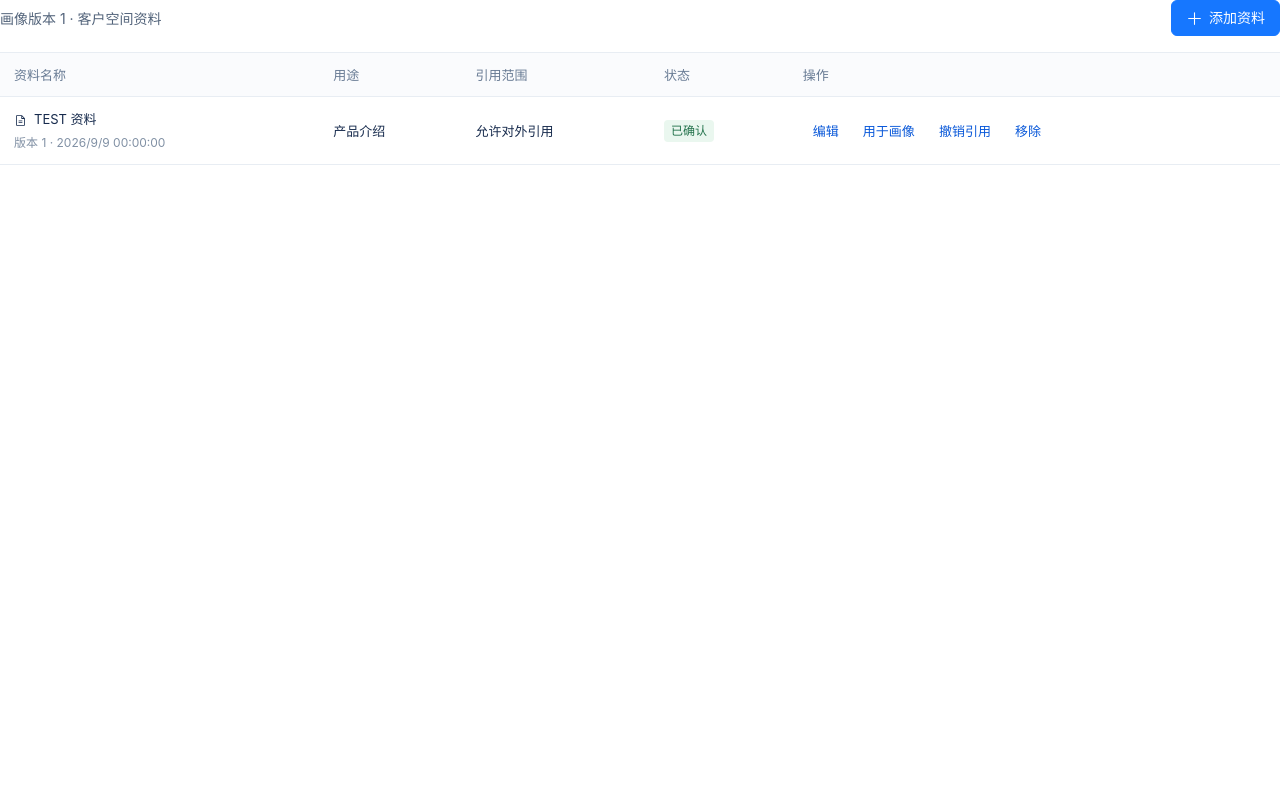
Test: P04 客户空间资料生命周期 › 同用户切换空间立即关闭旧的已确认移除影响弹窗
The width and height of the screenshot is (1280, 800).
Click the button "移除" at (1028, 130), box x1=1005 y1=112 x2=1051 y2=148
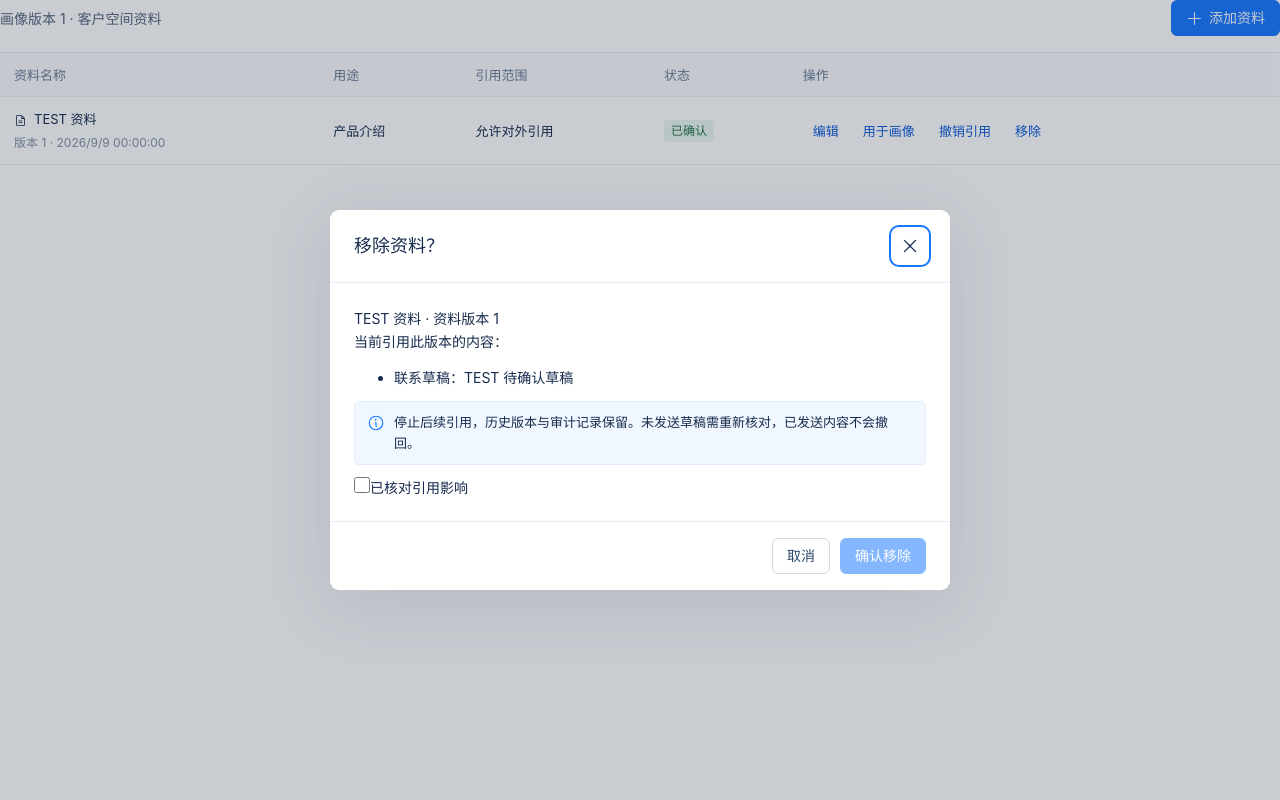
Now the checkbox labelled "已核对引用影响" is shown
Click the checkbox labelled "已核对引用影响" at (362, 485), box x1=354 y1=477 x2=370 y2=493
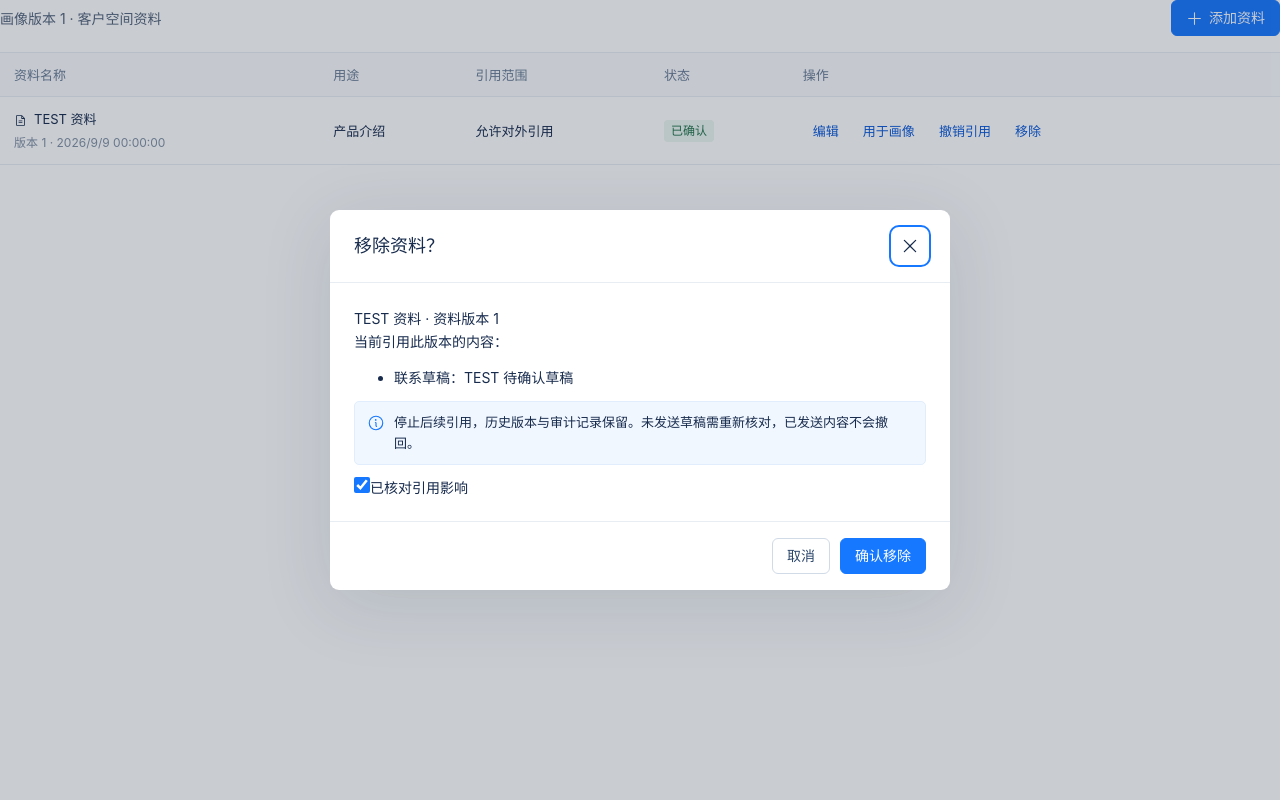
Now the button "确认移除" is enabled, box x1=840 y1=538 x2=926 y2=574
